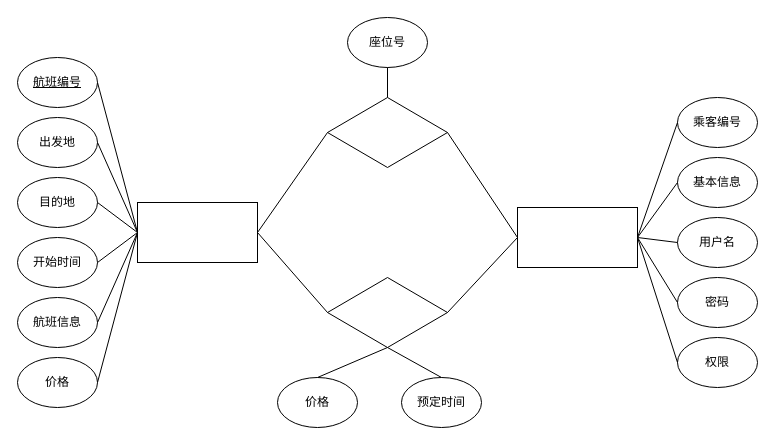
The diagram is 775 pixels wide and 445 high, and some of its shapes have lost their labels. The shapes that lost their labels are listed below. From the top down, each one's centre as x and y in pixels, then its label:
At [387,132]: "乘坐".
At [197,232]: "航班".
At [577,237]: "乘客".
At [387,312]: "预订".
